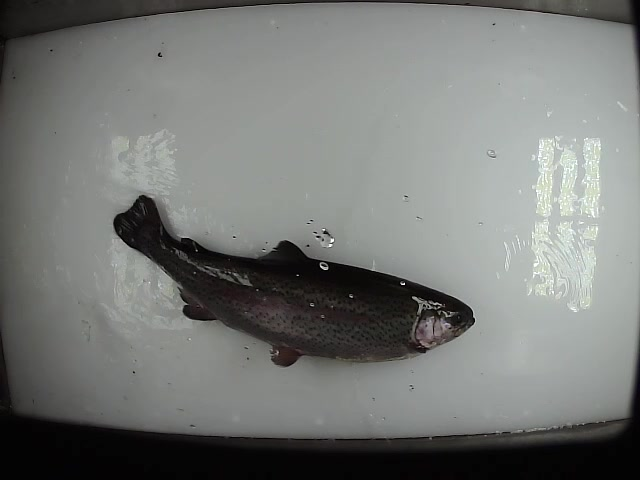fish: (110, 192, 477, 370)
